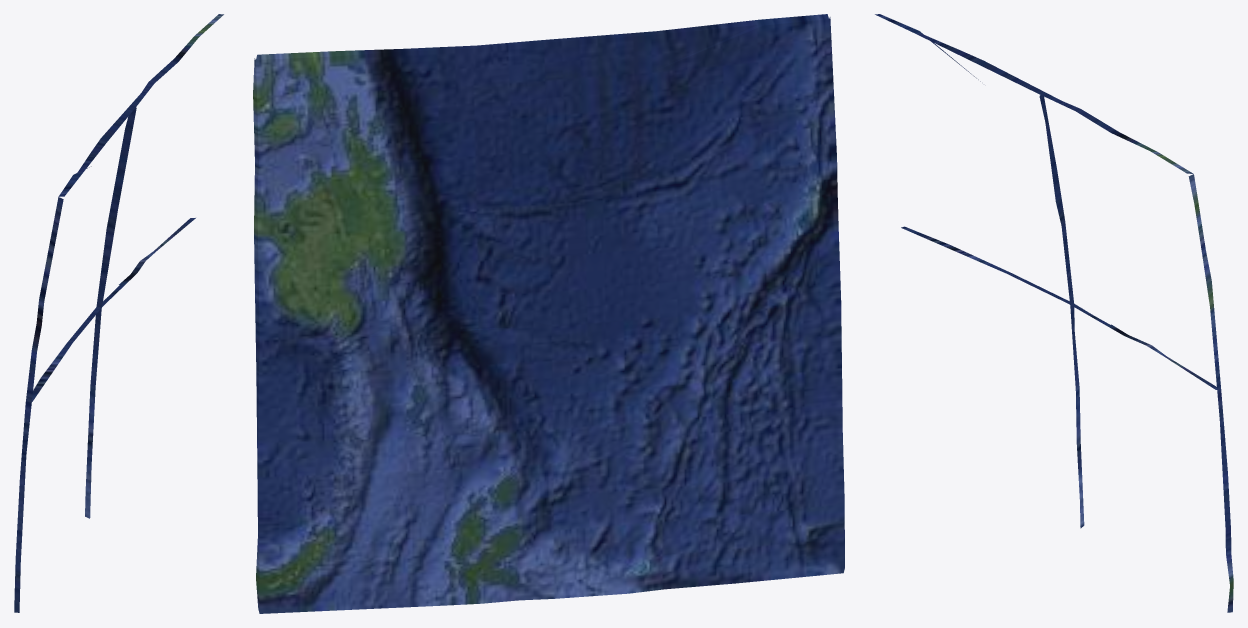
3 views of the same model, side by side, from view 1: azimuth 30°, elevation 25°; view 2: azimuth 150°, elevation 25°; view 3: azimuth 270°, elevation 25° (orthographic). The views are drawn at different scales.
Size of the model in its own units: 1046786 by 1252276 by 903105.
1 material, 1 textured.
